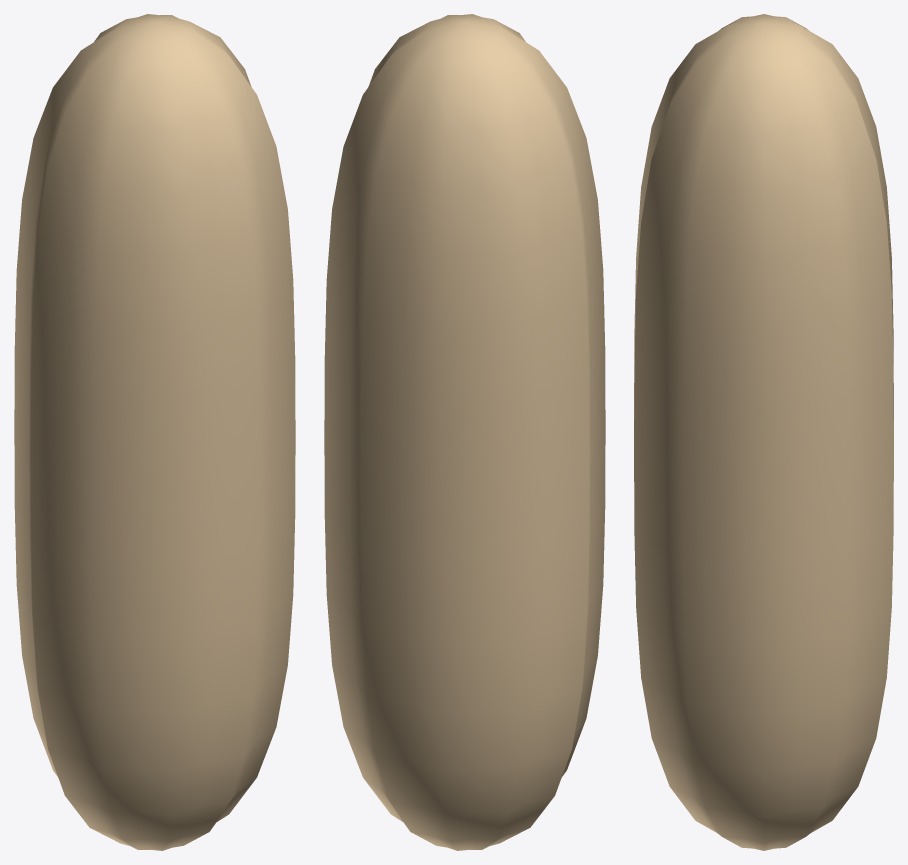
The model's file is food_peanut.glb.
3 renders of one model, left to right at view 1: azimuth 30°, elevation 25°; view 2: azimuth 150°, elevation 25°; view 3: azimuth 270°, elevation 25°, orthographic.
Visible parts, largest first — view 1: food_peanut; view 2: food_peanut; view 3: food_peanut.
Part boxes in pixels (x1,y1,x2,y2): food_peanut: [14, 14, 295, 850]; food_peanut: [324, 14, 605, 850]; food_peanut: [634, 14, 893, 850].
Bounding box in the file's own units: 0.00696 × 0.022 × 0.00633.
